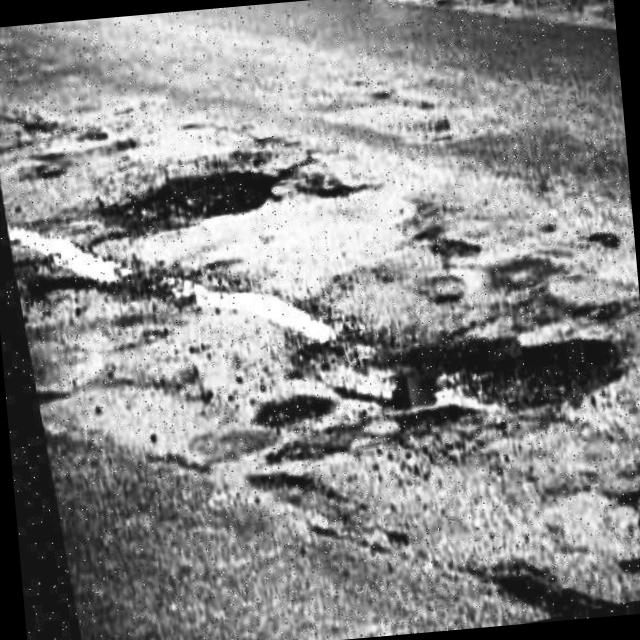Pothole: (272, 284, 628, 500), (88, 154, 286, 248)
